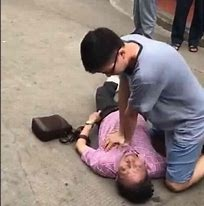falling: (69, 73, 161, 202)
